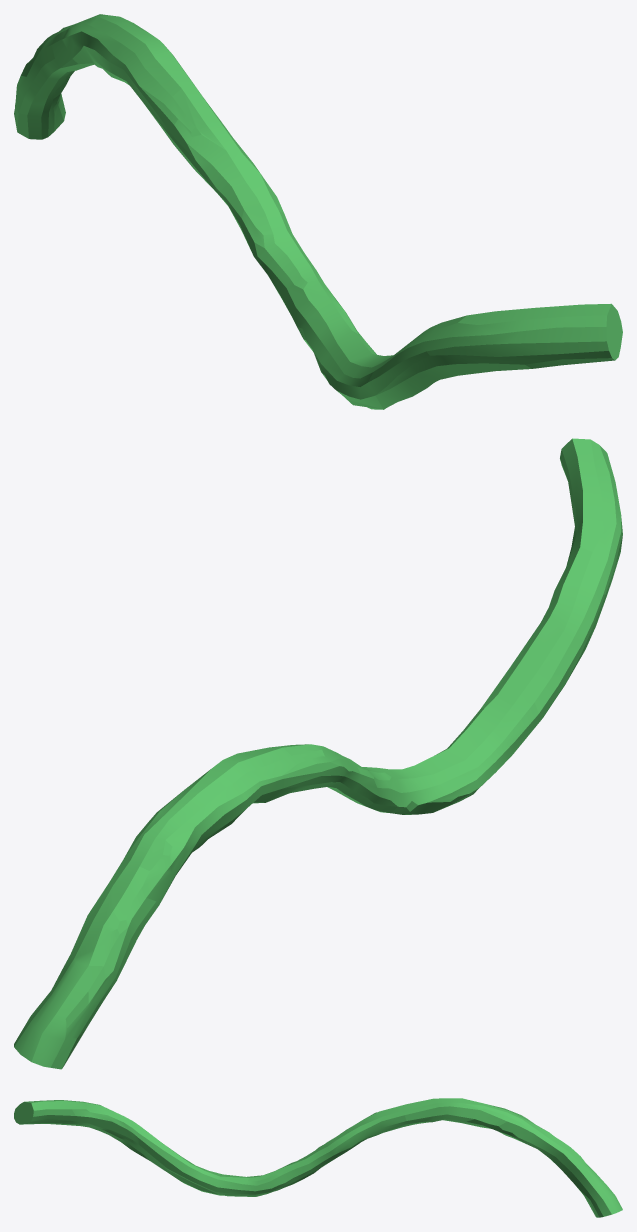
Rendered from jungle_trunk_ground_E.fbx.
3 renders of one model, top to bottom at view 1: azimuth 30°, elevation 25°; view 2: azimuth 150°, elevation 25°; view 3: azimuth 270°, elevation 25°, orthographic. The views are drawn at different scales.
Parts seen in each view (by area): view 1: jungle_trunk_ground_E; view 2: jungle_trunk_ground_E; view 3: jungle_trunk_ground_E.
Boxes of the visible parts, x1=… form: jungle_trunk_ground_E: x1=14, y1=14, x2=622, y2=409; jungle_trunk_ground_E: x1=14, y1=438, x2=622, y2=1069; jungle_trunk_ground_E: x1=14, y1=1098, x2=622, y2=1217.
Bounding box in the file's own units: 139 × 249 × 1150.
